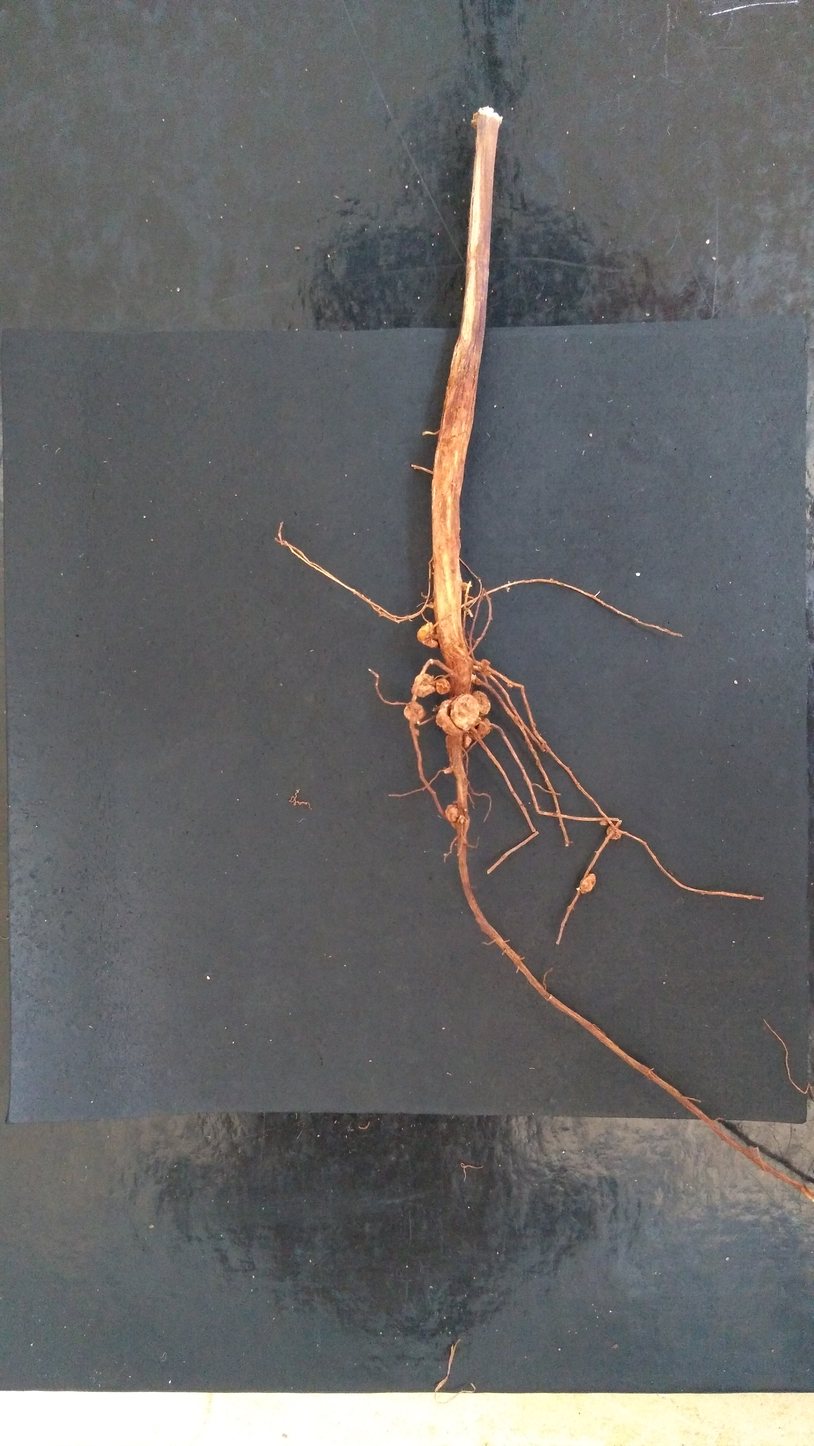nodule: (448, 689, 480, 732), (435, 697, 464, 738), (415, 620, 439, 650), (471, 688, 494, 719), (410, 672, 436, 699), (468, 716, 494, 743), (402, 701, 428, 726), (578, 872, 598, 895), (435, 673, 452, 696), (443, 803, 459, 824), (606, 824, 622, 841), (478, 659, 492, 670), (463, 734, 472, 750), (599, 820, 609, 827)
